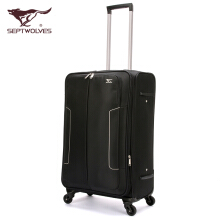luggage: (58, 0, 158, 220)
